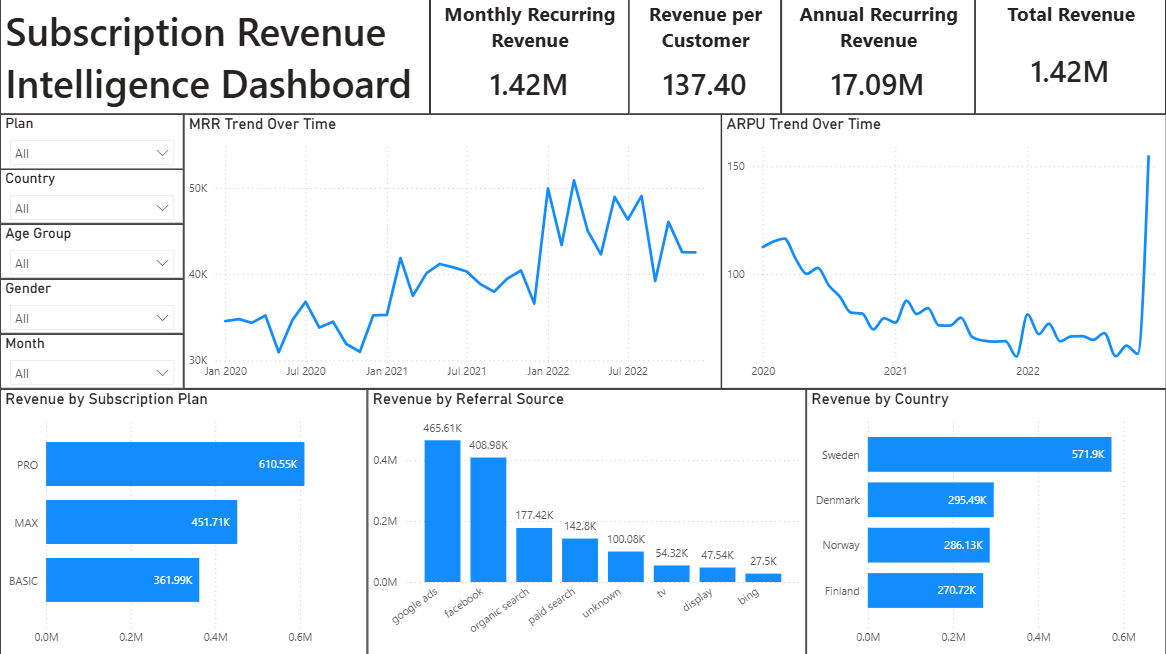

Layout of this report page (visuals, bound fields, positions):
{"tool":"powerbi","page":{"name":"Revenue Intelligence","canvas":[1280,720],"ordinal":0},"visuals":[{"type":"cardVisual","title":"Monthly Recurring Revenue","fields":{"Data":["FactSubPeriods.MRR"]},"box":[472,0,218.2,126.2],"z":0},{"type":"cardVisual","title":"Total Revenue","fields":{"Data":["FactSubPeriods.Total Revenue"]},"box":[1070.3,0,209.9,126.2],"z":1000},{"type":"cardVisual","title":"Annual Recurring Revenue","fields":{"Data":["FactSubPeriods.ARR"]},"box":[857.6,0,212.7,126.2],"z":2000},{"type":"cardVisual","title":"Revenue per Customer","fields":{"Data":["FactSubPeriods.ARPU"]},"box":[690.2,0,167.4,126.2],"z":3000},{"type":"textbox","box":[0,0,472,126.2],"z":4000},{"type":"lineChart","title":"MRR Trend Over Time","fields":{"Y":["FactSubPeriods.MRR"],"Category":["DimDate.month_start"]},"box":[201.7,126.2,590.1,301.9],"z":5000},{"type":"clusteredBarChart","title":"Revenue by Subscription Plan","fields":{"Category":["DimPlan.subscription_type"],"Y":["FactSubPeriods.Total Revenue"]},"box":[0,428.1,403.4,292.3],"z":6000},{"type":"clusteredBarChart","title":"Revenue by Country","fields":{"Y":["FactSubPeriods.Total Revenue"],"Category":["DimCustomer.customer_country"]},"box":[885.1,428.1,395.2,292.3],"z":7000},{"type":"clusteredColumnChart","title":"Revenue by Referral Source","fields":{"Category":["RevenueBySeg.referral_type"],"Y":["Sum(RevenueBySeg.revenue)"]},"box":[403.4,428.1,481.6,292.3],"z":8000},{"type":"lineChart","title":"ARPU Trend Over Time","fields":{"Category":["DimDate.month_start"],"Y":["FactSubPeriods.ARPU"]},"box":[791.8,126.2,488.5,301.9],"z":9000},{"type":"slicer","title":"Plan","fields":{"Values":["DimPlan.subscription_type"]},"box":[0,126.2,201.7,61],"z":10000},{"type":"slicer","title":"Country","fields":{"Values":["DimCustomer.customer_country"]},"box":[0,186.6,201.7,60.4],"z":11000},{"type":"slicer","title":"Age Group","fields":{"Values":["DimCustomer.age_group"]},"box":[0,247,201.7,60.4],"z":12000},{"type":"slicer","title":"Gender","fields":{"Values":["DimCustomer.customer_gender"]},"box":[0,307.4,201.7,60.4],"z":13000},{"type":"slicer","title":"Month","fields":{"Values":["DimDate.month_start"]},"box":[0,367.8,201.7,60.4],"z":14000}]}

Visuals, with their boxes in screenshot pixels (x1, y1, x2, y2), scaled from the page's 1280x720 canvas onto the 1166x654 screenshot:
"Monthly Recurring Revenue" cardVisual: bbox(430, 0, 629, 115)
"Total Revenue" cardVisual: bbox(975, 0, 1165, 115)
"Annual Recurring Revenue" cardVisual: bbox(781, 0, 975, 115)
"Revenue per Customer" cardVisual: bbox(629, 0, 781, 115)
textbox: bbox(0, 0, 430, 115)
"MRR Trend Over Time" lineChart: bbox(184, 115, 721, 389)
"Revenue by Subscription Plan" clusteredBarChart: bbox(0, 389, 367, 653)
"Revenue by Country" clusteredBarChart: bbox(806, 389, 1165, 653)
"Revenue by Referral Source" clusteredColumnChart: bbox(367, 389, 806, 653)
"ARPU Trend Over Time" lineChart: bbox(721, 115, 1165, 389)
"Plan" slicer: bbox(0, 115, 184, 170)
"Country" slicer: bbox(0, 169, 184, 224)
"Age Group" slicer: bbox(0, 224, 184, 279)
"Gender" slicer: bbox(0, 279, 184, 334)
"Month" slicer: bbox(0, 334, 184, 389)
